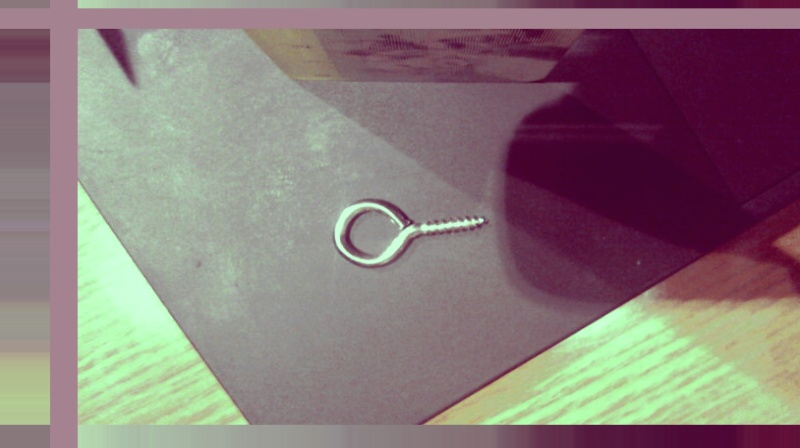O001: (329, 192, 489, 272)
